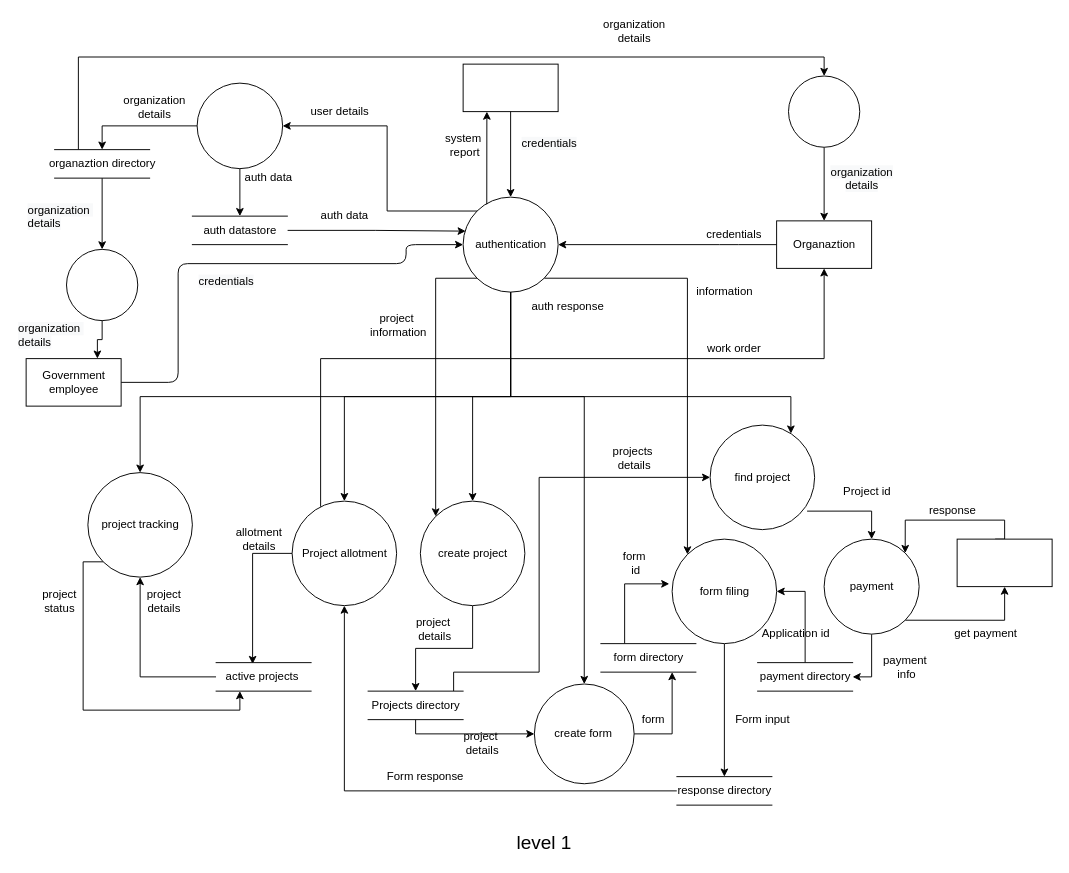
Some shapes in this 1069 by 873 pixel diagram are drawn without their labels. Each missing label, with the centre of its shape:
Admin: the point at 510,87
create user: the point at 239,125
fetch profile: the point at 824,111
find details: the point at 102,284
payment gateway: the point at 1004,562
